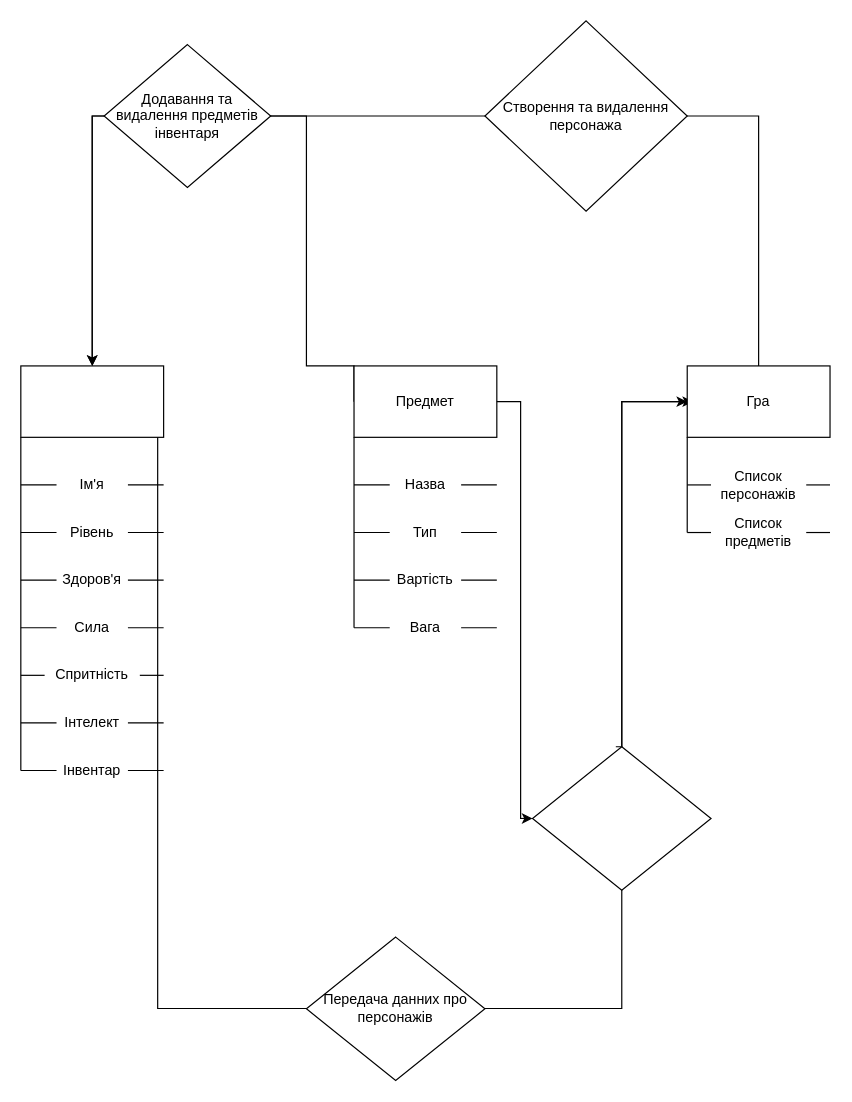
Image size: 852x1102. Some labels were removed from this diagram. Here are the shapes that lost their labels. From the top down, the box of each, then its label:
(20, 365, 164, 437): Персонаж
(531, 746, 711, 890): Передача данних про предмети
